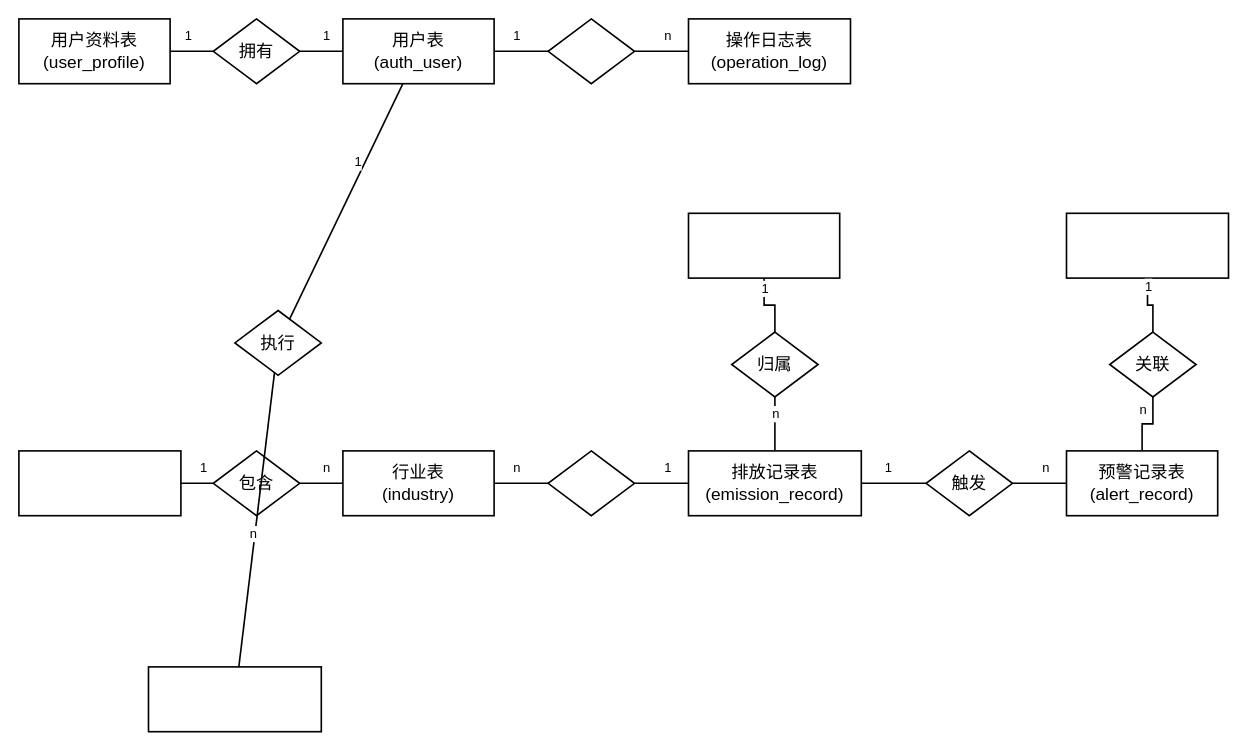
Some shapes in this 1248 by 752 pixel diagram are drawn without their labels. The centre of each missing label's shape, as x and y in pixels:
"产生" belongs at (x=591, y=51).
"地区表 (region)" belongs at (x=763, y=245).
"排放源表 (emission_source)" belongs at (x=99, y=483).
"记录" belongs at (x=591, y=483).
"阈值配置表 (threshold_config)" belongs at (x=1147, y=245).
"预测结果表 (prediction_result)" belongs at (x=234, y=699).
